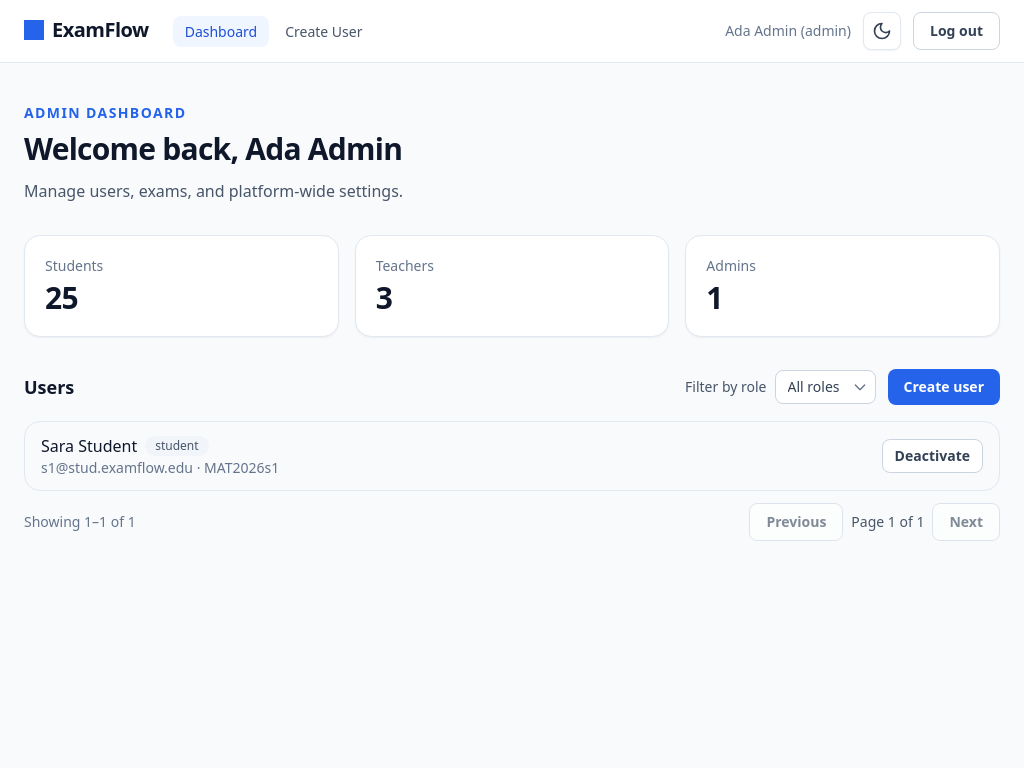
Test: admin dashboard overview › deactivates a user from the list
expect the text "admin dashboard" is shown: met, box [24,103,186,122]
What coordinates should you click on to do the following:
click the button with aria-label "deactivate sara student"
I would click on:
 (932, 456)
Its box is [882,439,983,473].
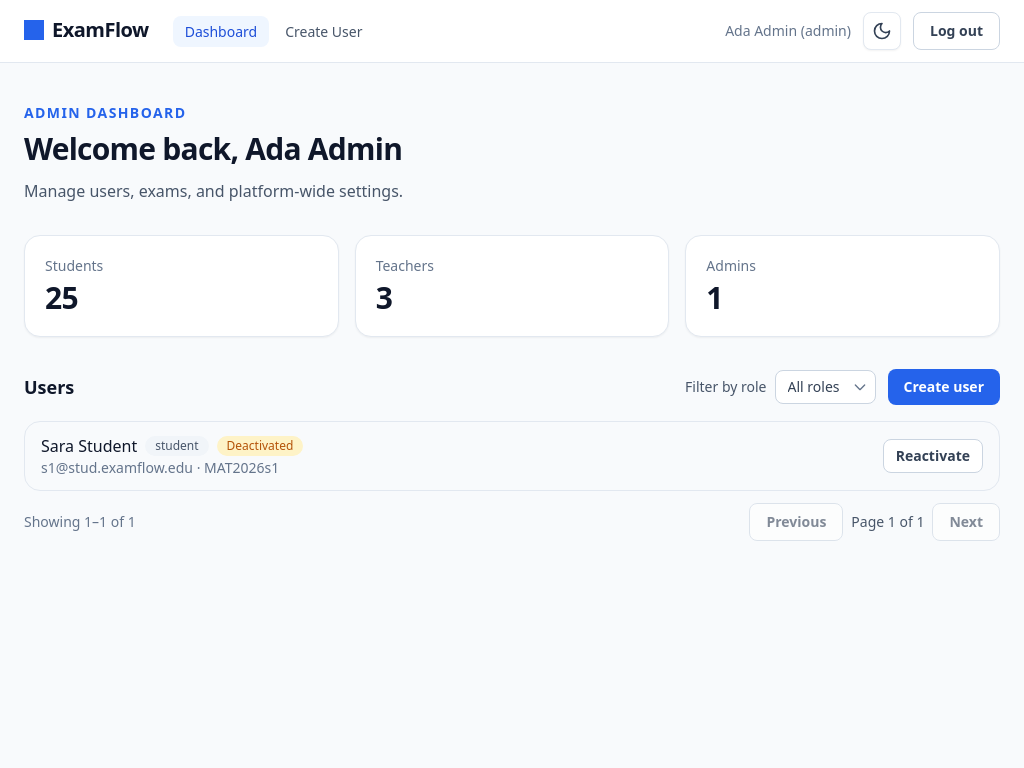
expect the text "Deactivated" is shown: met, box [217,436,303,456]
expect the button with aria-label "reactivate sara student" is shown: met, box [883,439,983,473]
